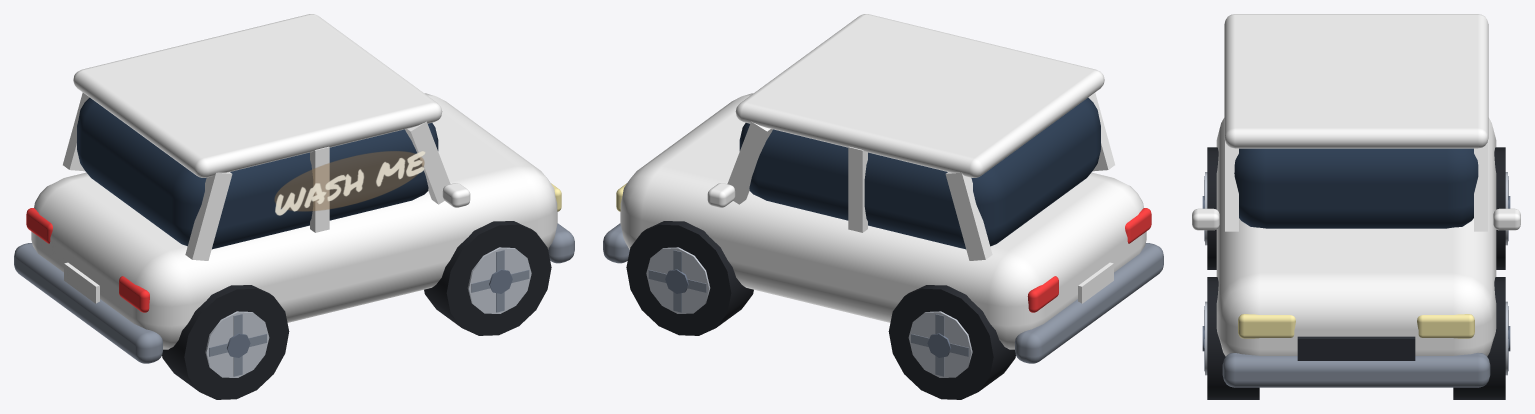
The model's file is car_hatch.glb.
3 renders of one model, left to right at view 1: azimuth 30°, elevation 25°; view 2: azimuth 150°, elevation 25°; view 3: azimuth 270°, elevation 25°, orthographic.
Parts seen in each view (by area): view 1: Paint, Trim, Wheel1, Wheel0, WashMe; view 2: Paint, Trim, Wheel3, Wheel2; view 3: Paint, Trim, Wheel0, Wheel2, Wheel1, Wheel3.
Boxes of the visible parts, bbox=[...] form: Paint: bbox=[31, 14, 557, 349]; Trim: bbox=[14, 97, 574, 363]; Wheel1: bbox=[162, 285, 289, 399]; Wheel0: bbox=[424, 221, 551, 335]; WashMe: bbox=[274, 151, 425, 215]; Paint: bbox=[620, 14, 1146, 349]; Trim: bbox=[603, 97, 1163, 363]; Wheel3: bbox=[888, 285, 1015, 399]; Wheel2: bbox=[626, 221, 753, 335]; Paint: bbox=[1192, 14, 1520, 356]; Trim: bbox=[1222, 148, 1490, 387]; Wheel0: bbox=[1202, 277, 1259, 399]; Wheel2: bbox=[1453, 277, 1510, 399]; Wheel1: bbox=[1202, 147, 1218, 269]; Wheel3: bbox=[1494, 147, 1510, 269].
Bounding box in the file's own units: 3.34 × 1.72 × 2.14.
Materials: 7 (1 with a texture image).
